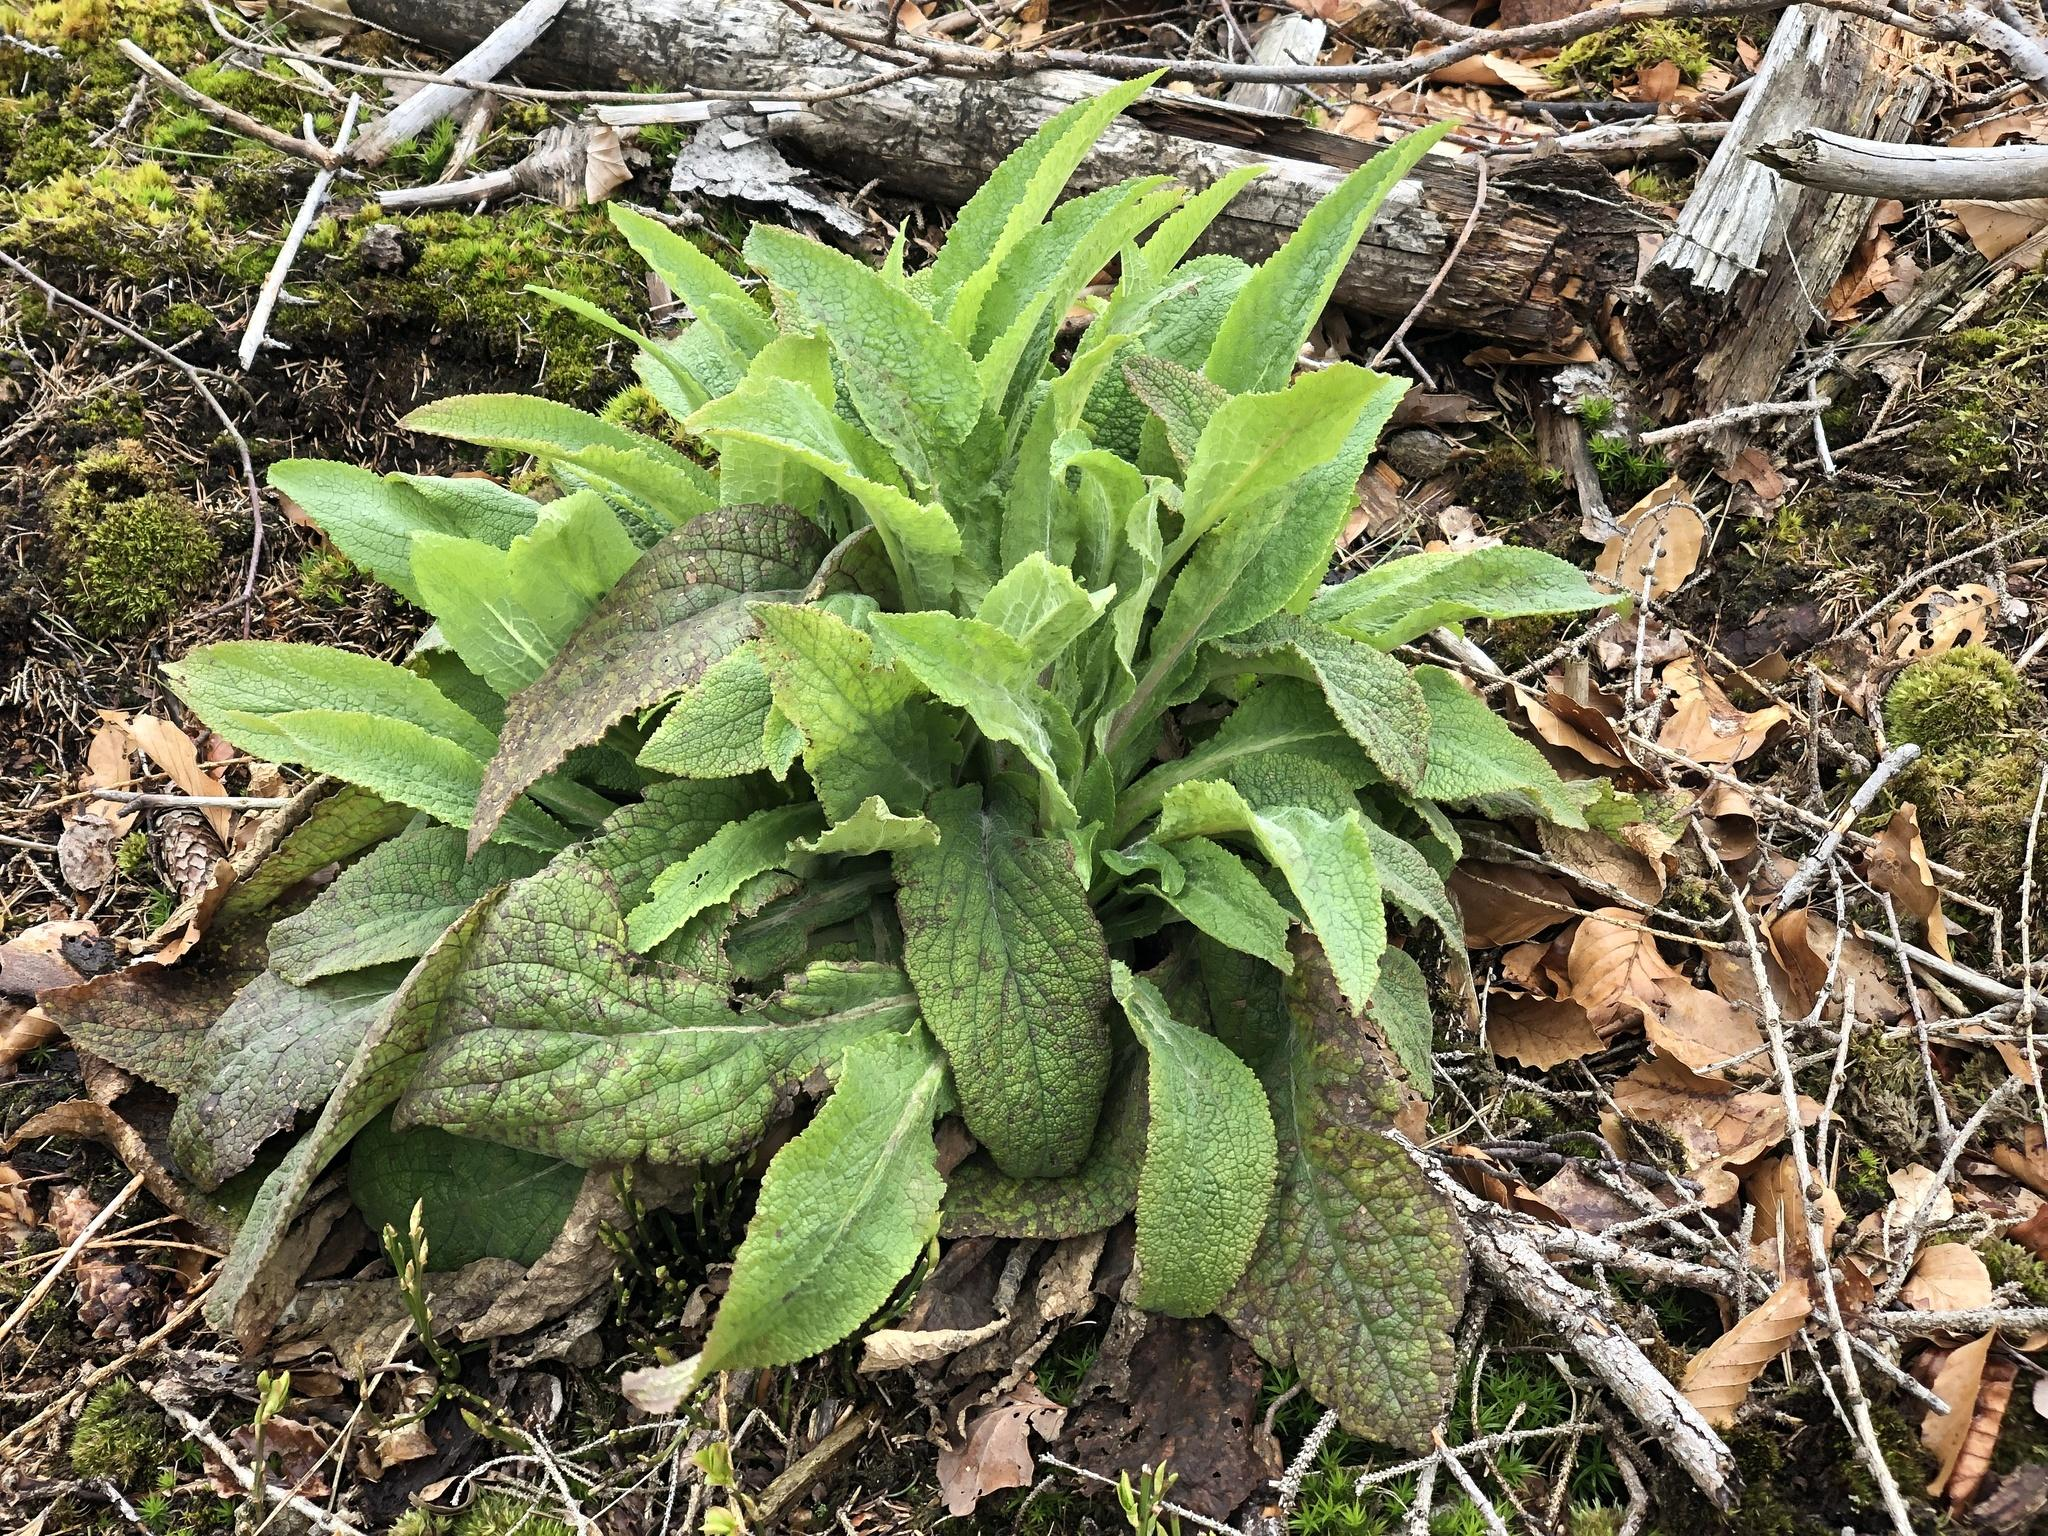Digitalis L: (169, 61, 1632, 1449)
